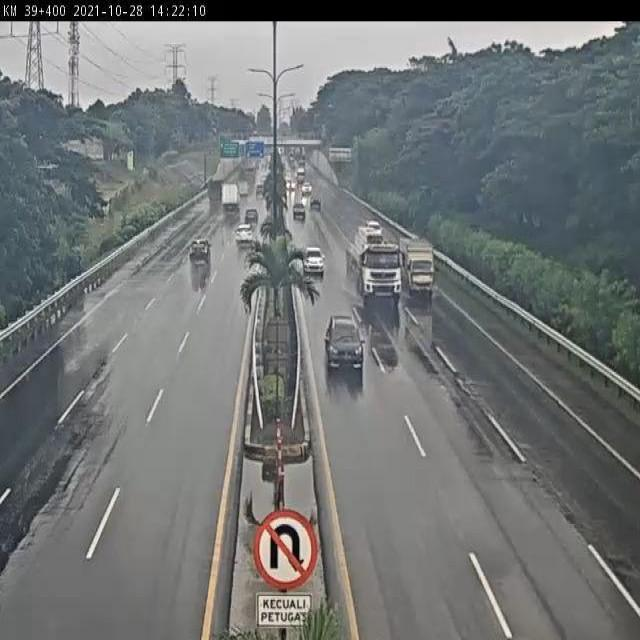car: (324, 312, 366, 376), (187, 233, 213, 270), (302, 245, 327, 276), (232, 222, 254, 246)
truck-s-: (398, 235, 437, 301)
truck-xl-: (344, 219, 405, 304)
